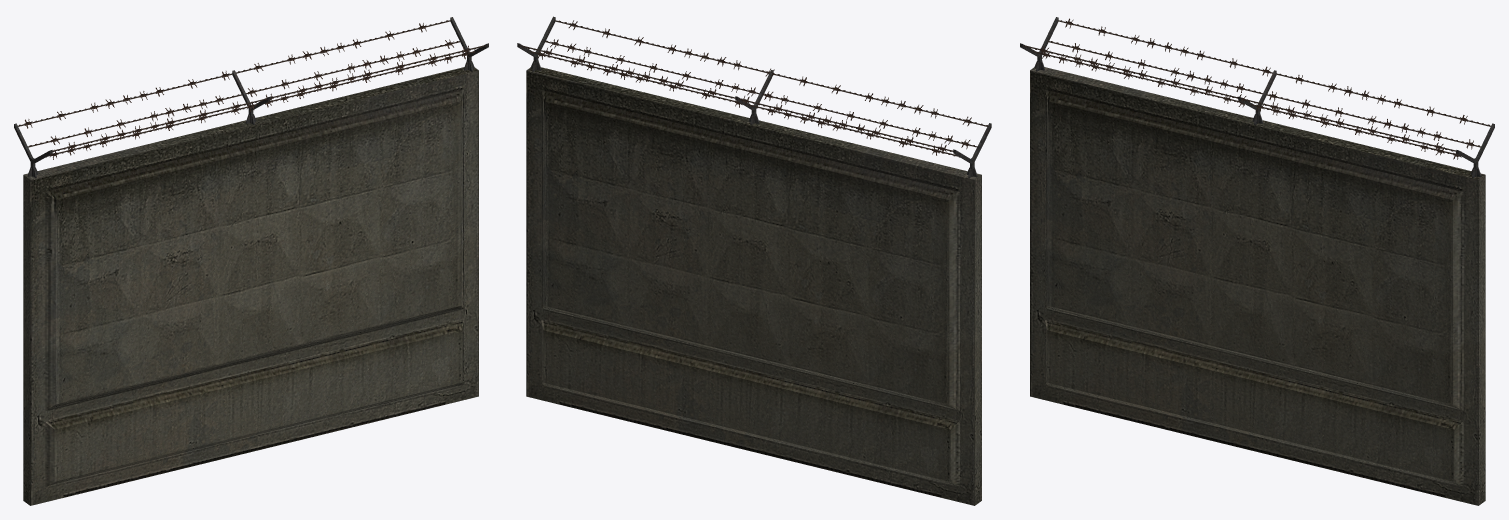
File: concrete_fence_hr_2.dae
The picture shows the model from 3 angles, left to right: view 1: azimuth 30°, elevation 25°; view 2: azimuth 150°, elevation 25°; view 3: azimuth 330°, elevation 25°; orthographic projection.
Visible parts, largest first — view 1: concrete_fence_hr_2; view 2: concrete_fence_hr_2; view 3: concrete_fence_hr_2.
Boxes of the visible parts, <box> form: concrete_fence_hr_2: <box>14,17,488,505</box>; concrete_fence_hr_2: <box>517,16,991,505</box>; concrete_fence_hr_2: <box>1020,17,1494,505</box>.
Bounding box in the file's own units: 3.6 × 0.5551 × 2.82.
Materials: 3 (3 with a texture image).
